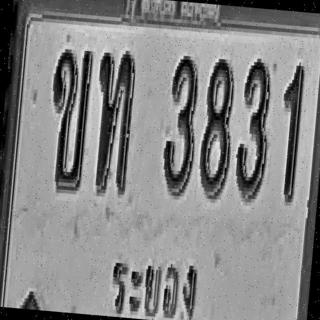A02: (44, 44, 93, 191)
A23: (89, 48, 137, 195)
N01: (274, 61, 305, 202)
N03: (160, 51, 202, 197), (232, 56, 274, 202)
N08: (197, 54, 237, 200)
P53: (102, 244, 204, 320)
